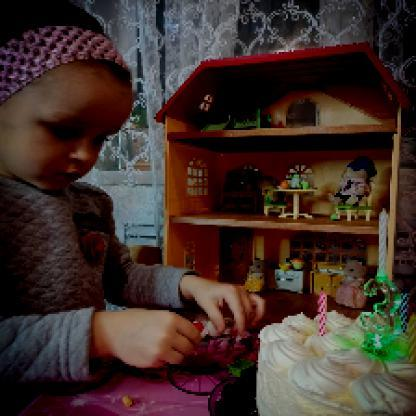child: (1, 2, 267, 389)
